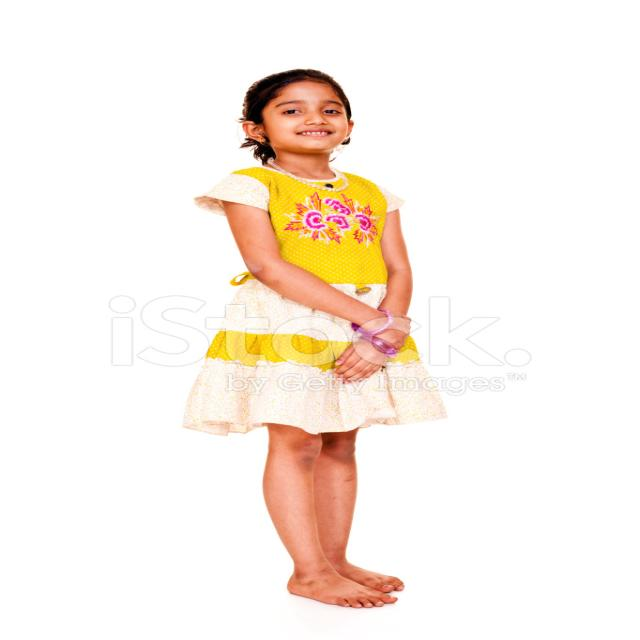child: (164, 53, 448, 612)
